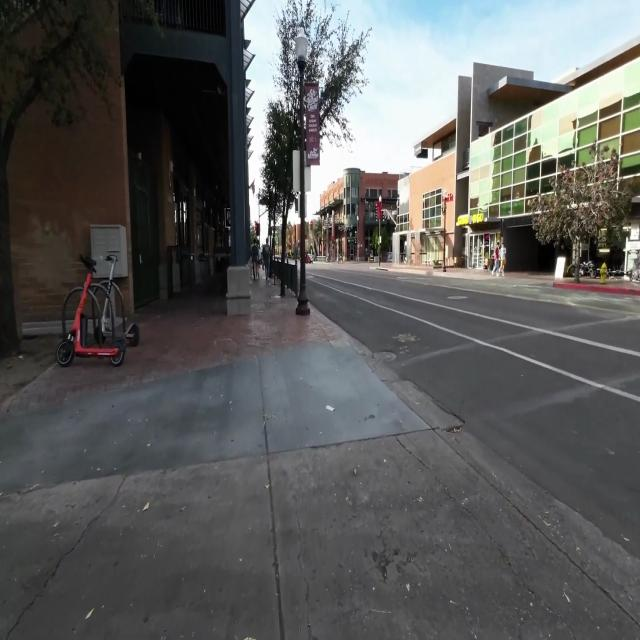road: (307, 263, 640, 561)
side walk: (0, 298, 640, 639)
street sign: (296, 28, 308, 300)
